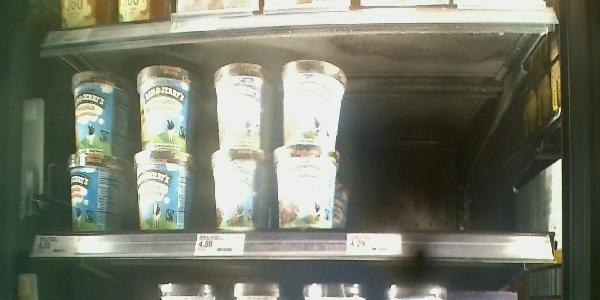icecream: (128, 147, 202, 235), (274, 148, 351, 231), (278, 58, 351, 145), (132, 64, 202, 154), (57, 154, 134, 233), (67, 63, 131, 157), (208, 62, 275, 148), (204, 147, 273, 226)
